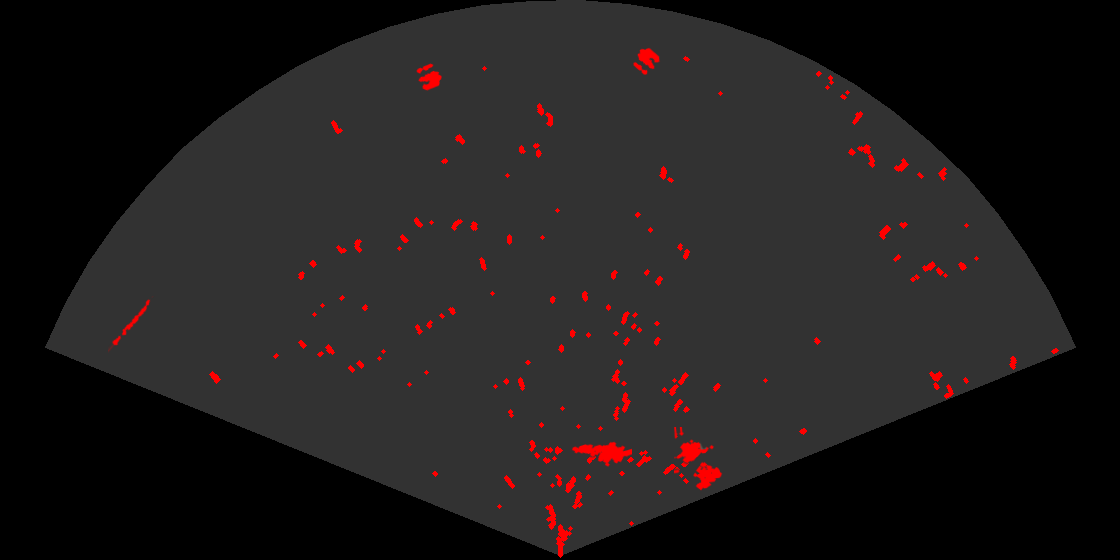ball: (632, 46, 662, 76), (415, 62, 443, 92)
cage: (674, 427, 724, 492)
chain: (108, 296, 155, 353)
frogman: (570, 440, 632, 468)
